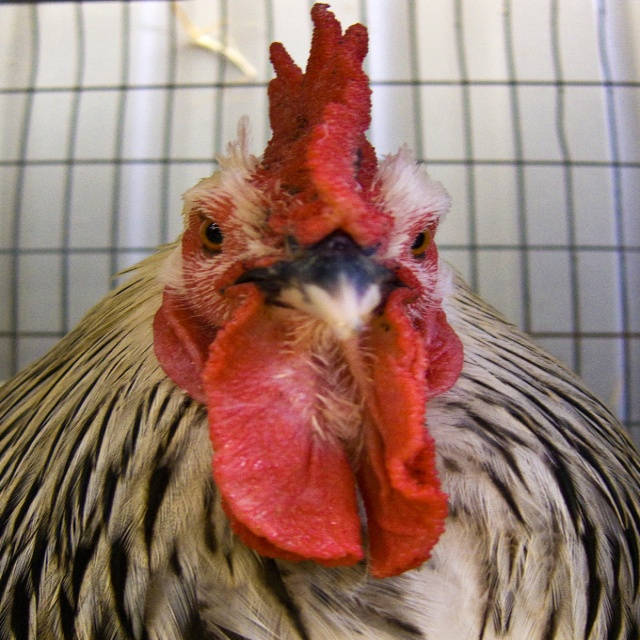Chicken: (0, 4, 639, 639)
